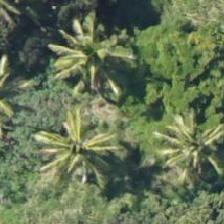coconut_tree: (28, 99, 118, 189), (148, 100, 223, 190)
